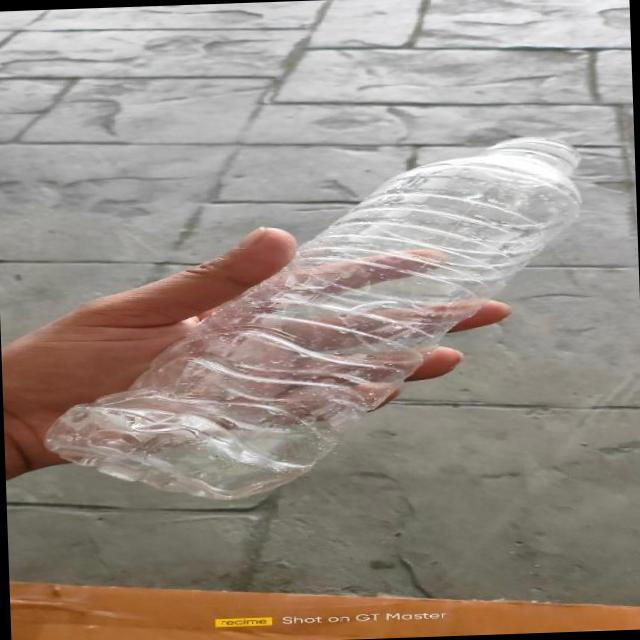plastic_bottle: (34, 135, 591, 505)
